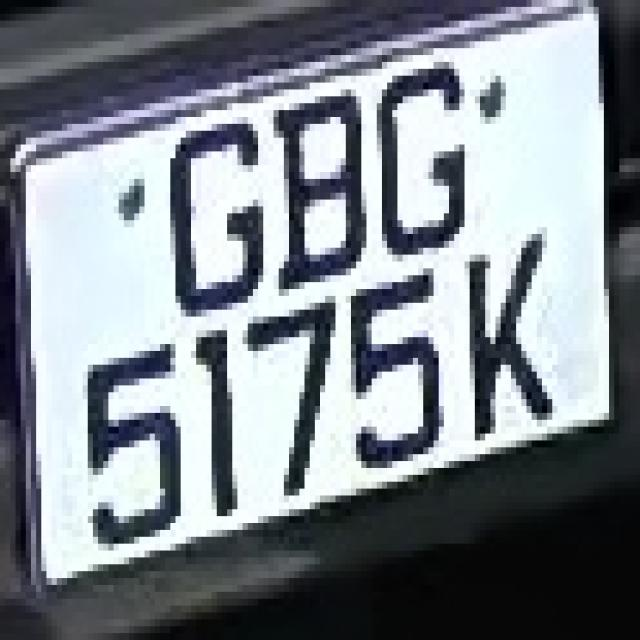1: (181, 323, 268, 530)
5: (78, 317, 180, 564), (341, 276, 444, 502)
7: (243, 296, 356, 502)
B: (263, 89, 372, 296)
G: (155, 104, 273, 324), (362, 76, 491, 254)
K: (454, 234, 552, 440)
